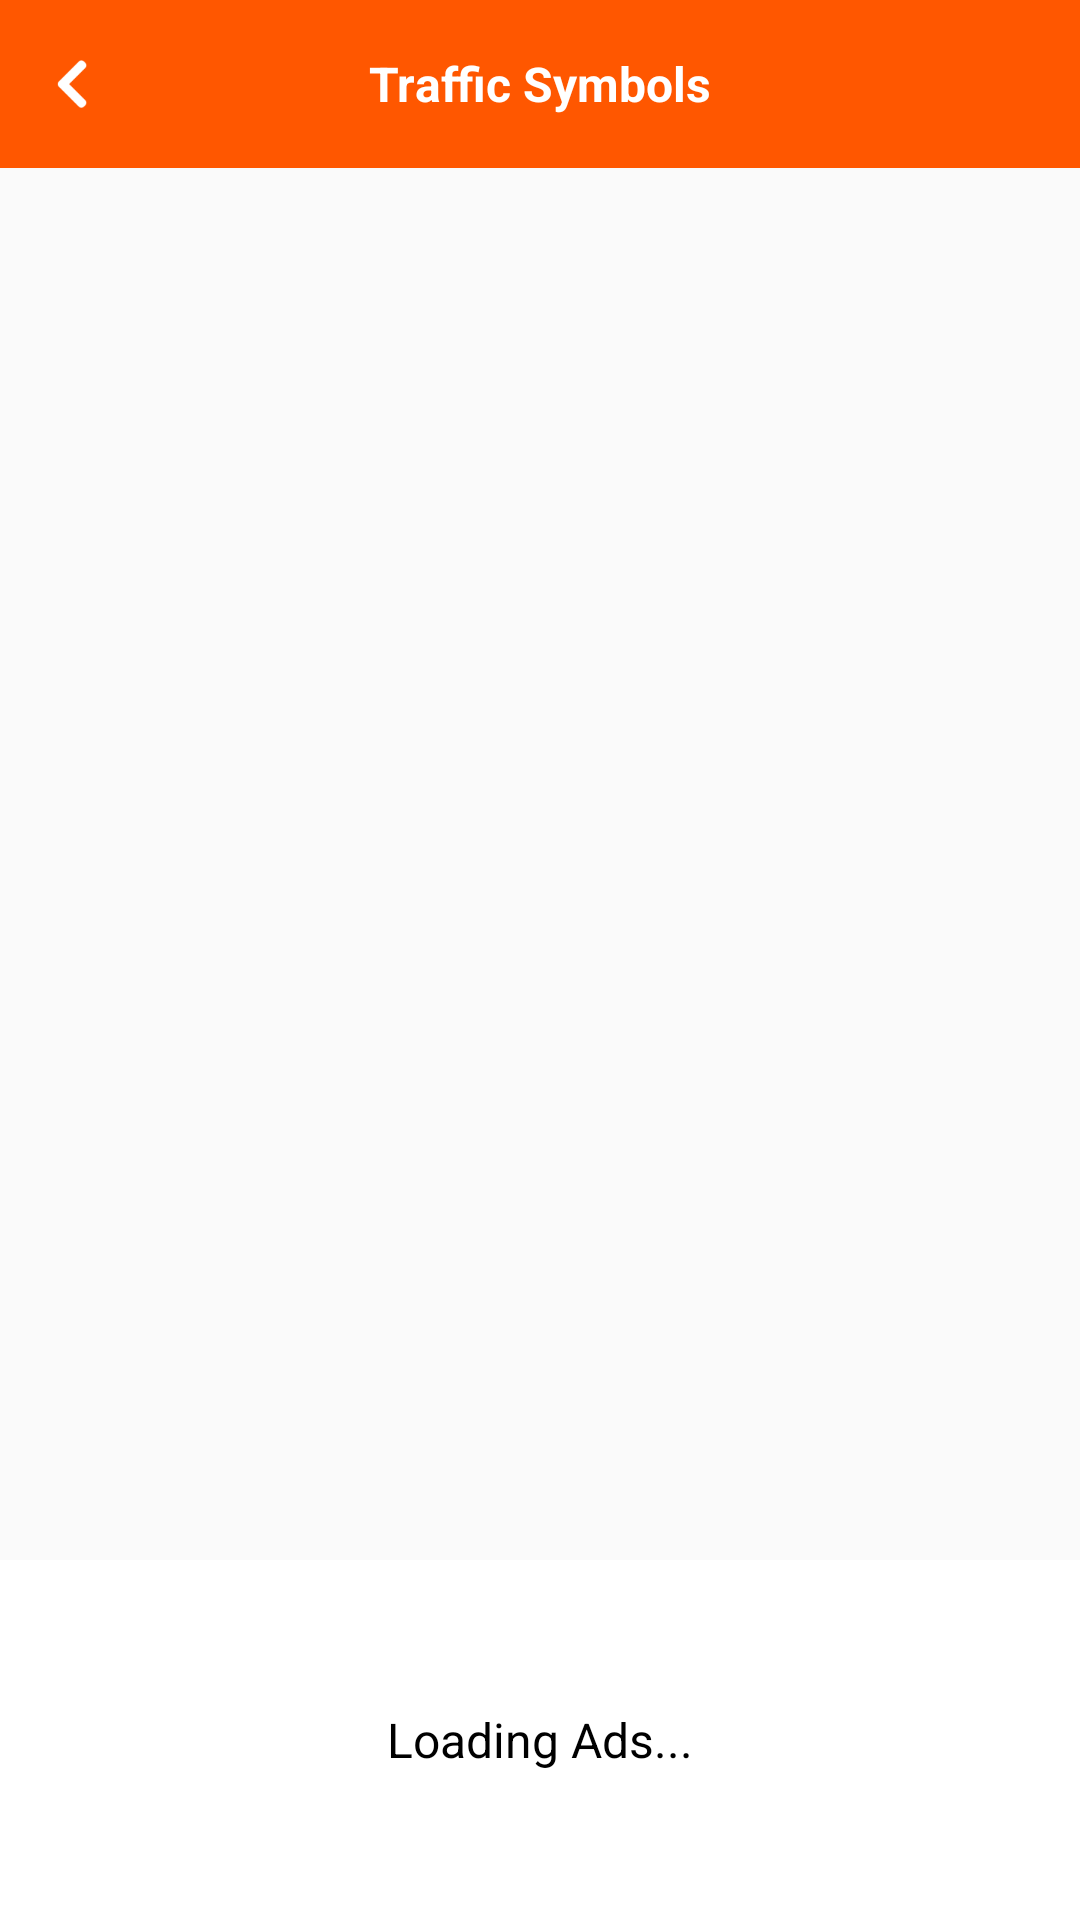

Icons on this 1080px×1920px Android screen, each with the point to tap as (x=x, y=y):
back: (x=72, y=84)
